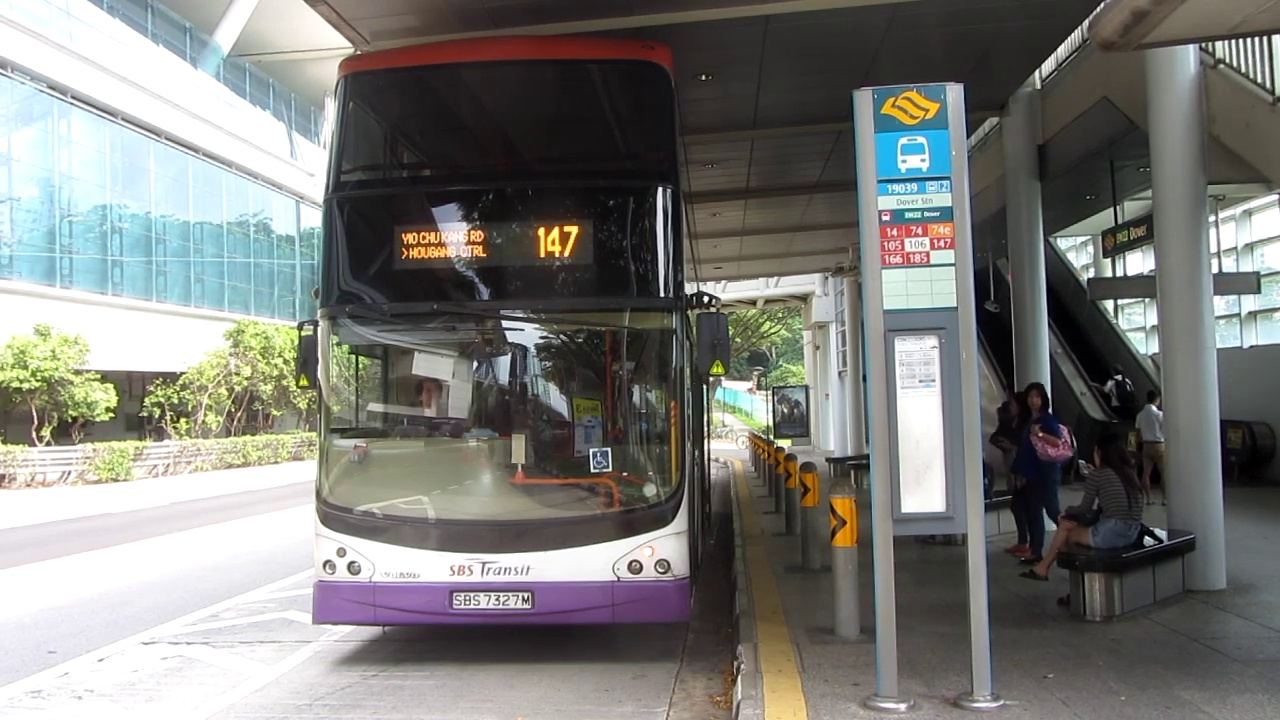bus panel: (390, 217, 596, 272)
